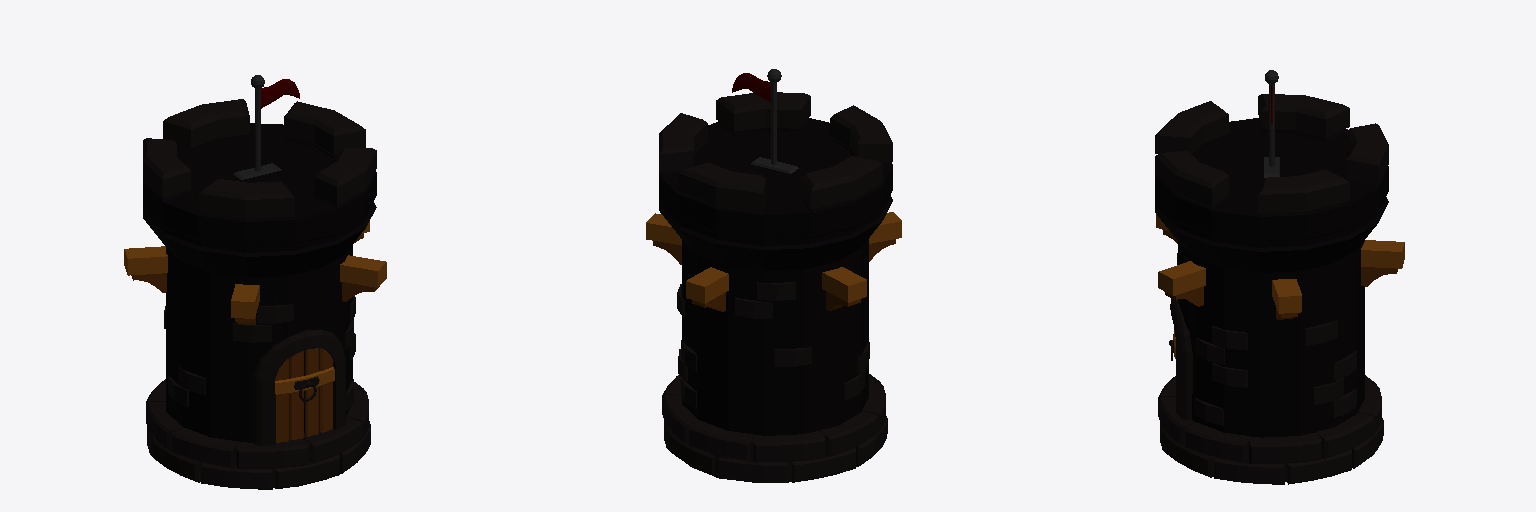
The model's file is Tower.obj.
3 views of the same model, side by side, from view 1: azimuth 30°, elevation 25°; view 2: azimuth 150°, elevation 25°; view 3: azimuth 270°, elevation 25° (orthographic).
Visible parts, largest first — view 1: Tower_Cube.292, Tower_Door_Cylinder.003; view 2: Tower_Cube.292; view 3: Tower_Cube.292.
Boxes of the visible parts, <box> form: Tower_Cube.292: <box>124,75,386,489</box>; Tower_Door_Cylinder.003: <box>275,348,334,442</box>; Tower_Cube.292: <box>646,69,901,482</box>; Tower_Cube.292: <box>1155,70,1404,484</box>.
Bounding box in the file's own units: 9.44 × 14.6 × 8.98.